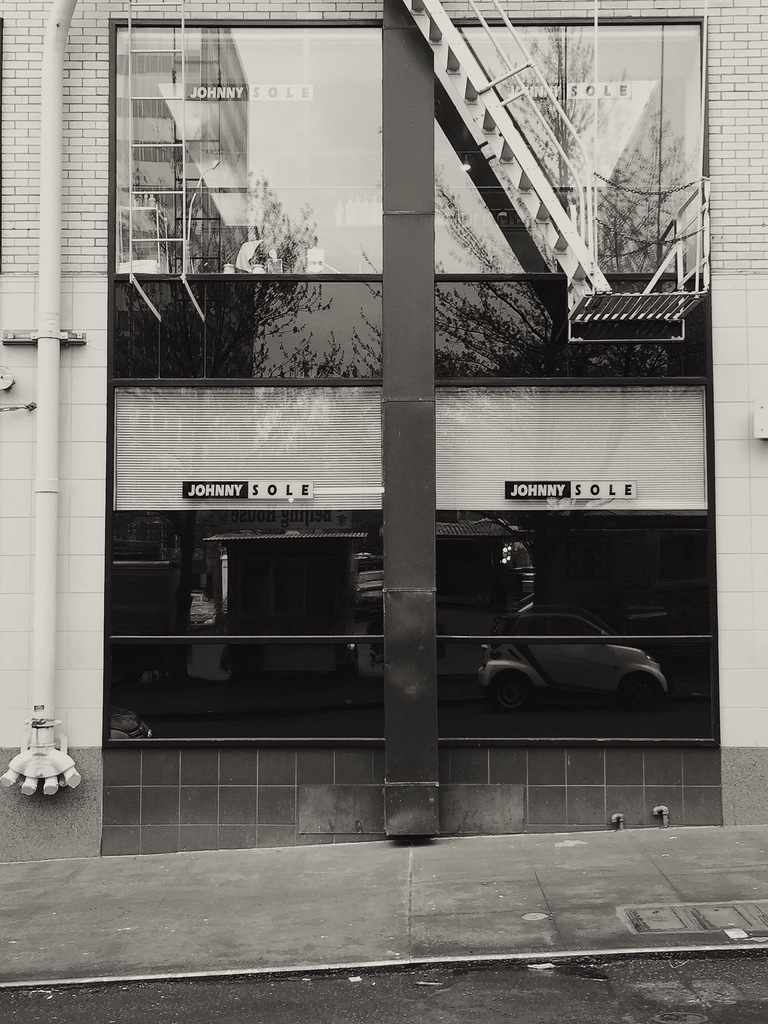Car: (476, 613, 667, 712)
